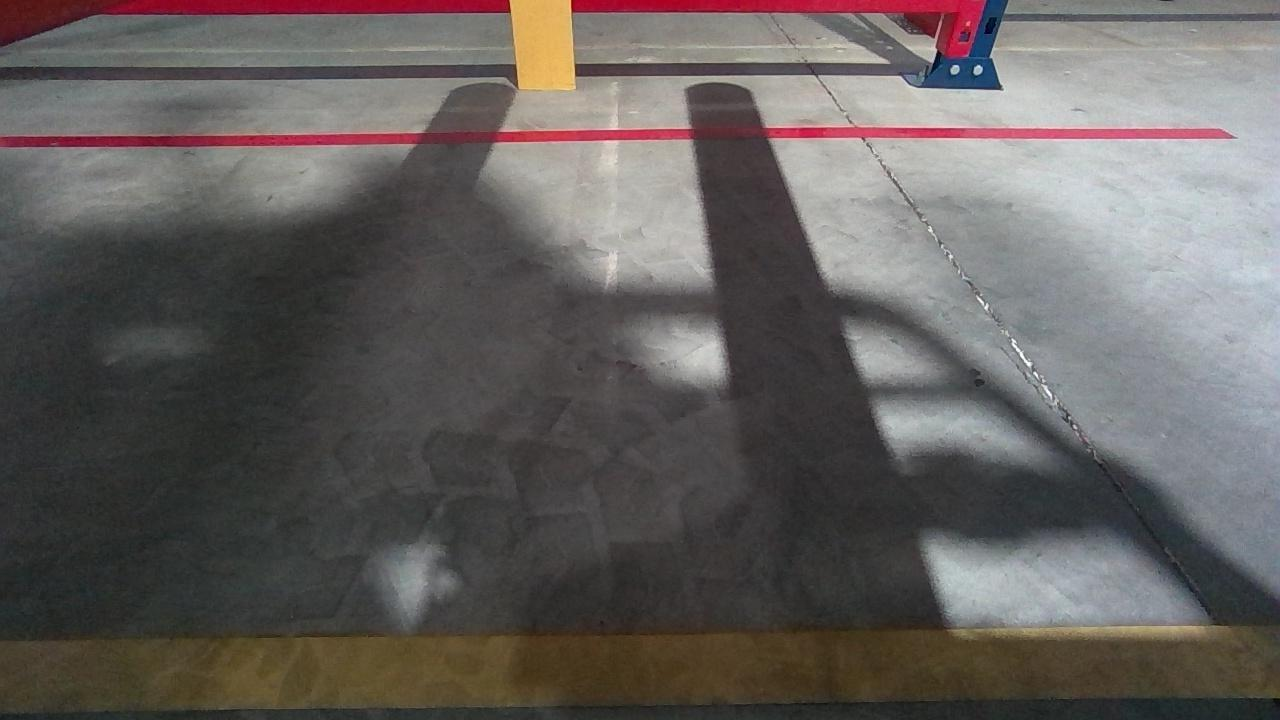h_rack: (4, 0, 1024, 15)
orange_strip: (507, 0, 576, 89)
red_line: (0, 123, 1239, 142)
yellow_line: (0, 622, 1275, 718)
